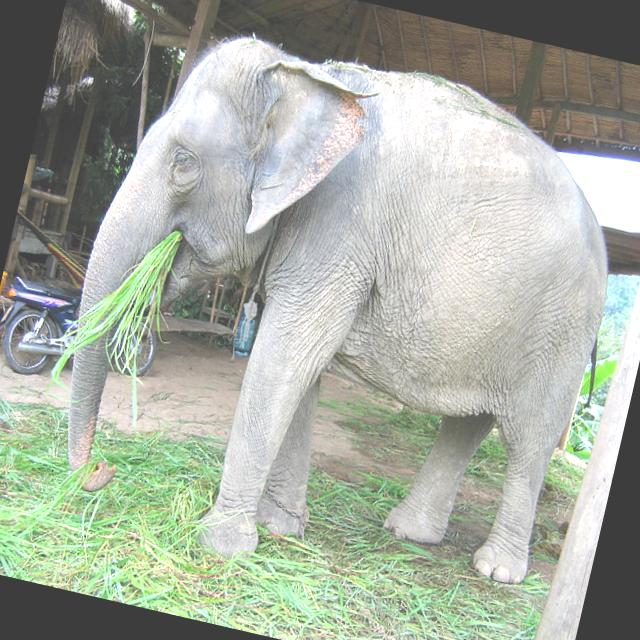Vehicle: (0, 270, 165, 406)
